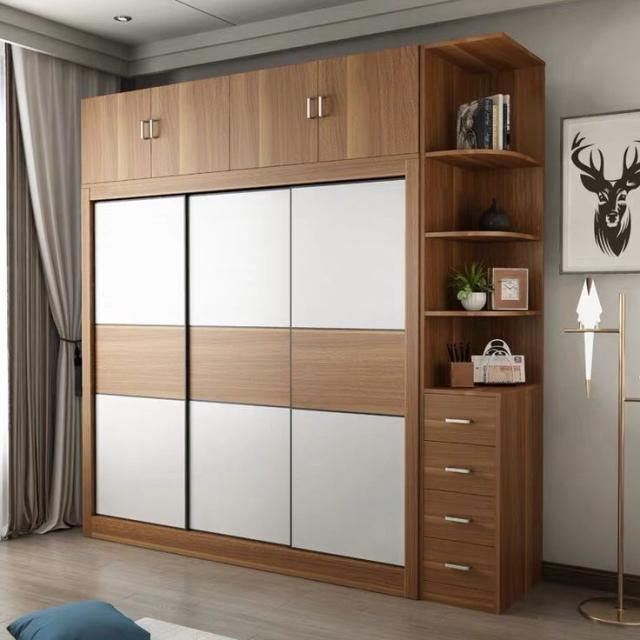obstacle: (78, 42, 420, 192), (422, 391, 544, 608)
